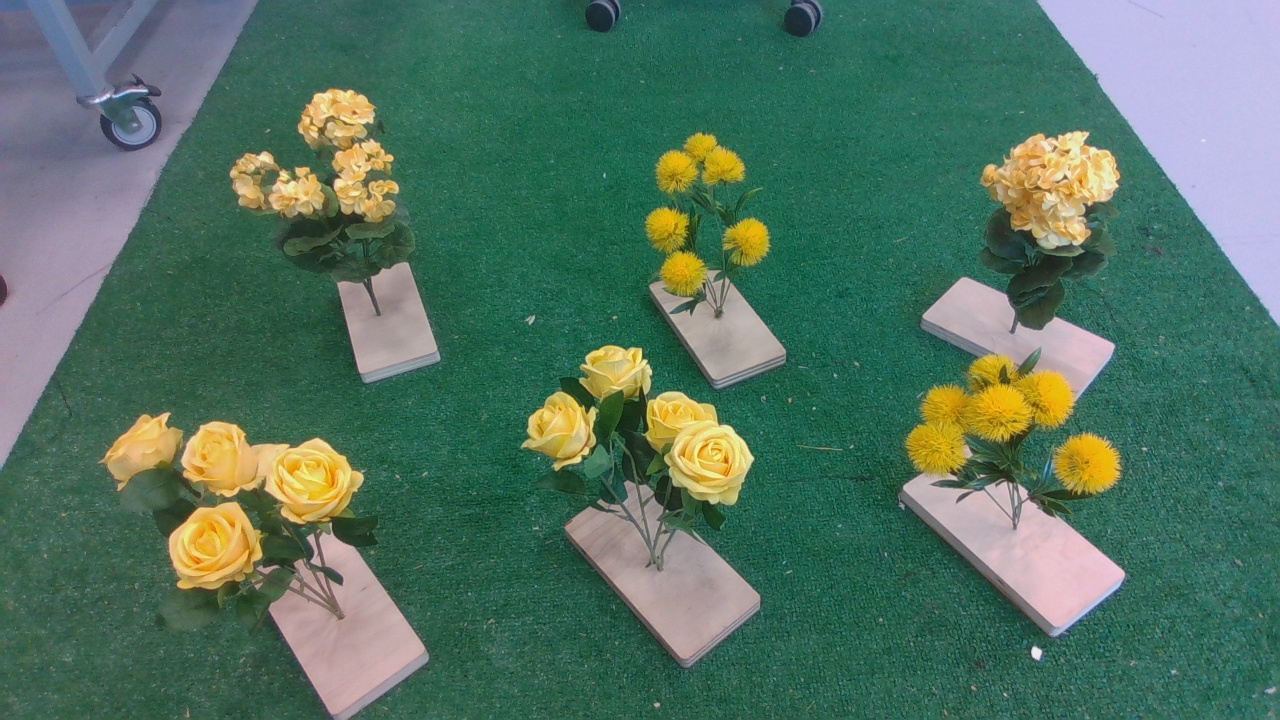dandelion: (906, 350, 1140, 528), (635, 134, 779, 320)
geranium: (228, 90, 433, 288), (966, 129, 1131, 335)
rose: (79, 408, 391, 640), (520, 343, 767, 542)
